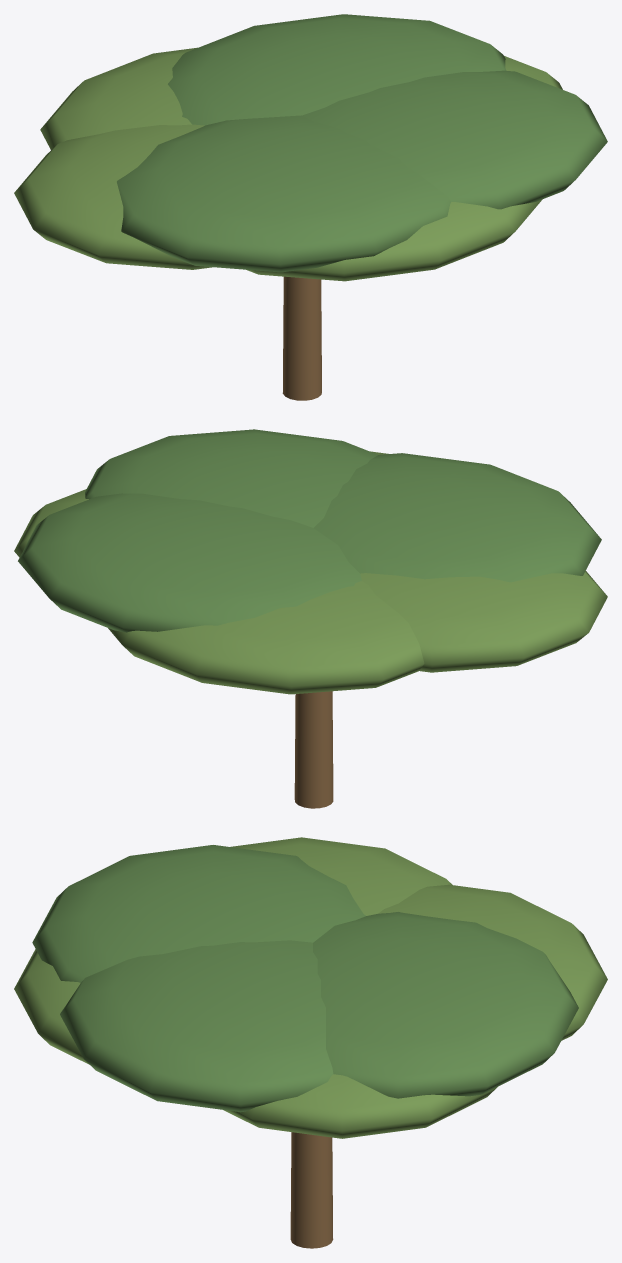
File: fixture-lion-den-v01.glb
3 renders of one model, top to bottom at view 1: azimuth 30°, elevation 25°; view 2: azimuth 150°, elevation 25°; view 3: azimuth 270°, elevation 25°, orthographic. The views are drawn at different scales.
Parts seen in each view (by area): view 1: merged-static (×2), post; view 2: merged-static (×2), post; view 3: merged-static (×2), post.
Part boxes in pixels (bbox=[...]): merged-static (×2): bbox=[14, 14, 607, 281]; post: bbox=[282, 276, 321, 400]; merged-static (×2): bbox=[14, 429, 607, 694]; post: bbox=[294, 691, 333, 808]; merged-static (×2): bbox=[14, 837, 607, 1138]; post: bbox=[290, 1132, 333, 1248].
Bounding box in the file's own units: 3.18 × 1.59 × 2.79.
